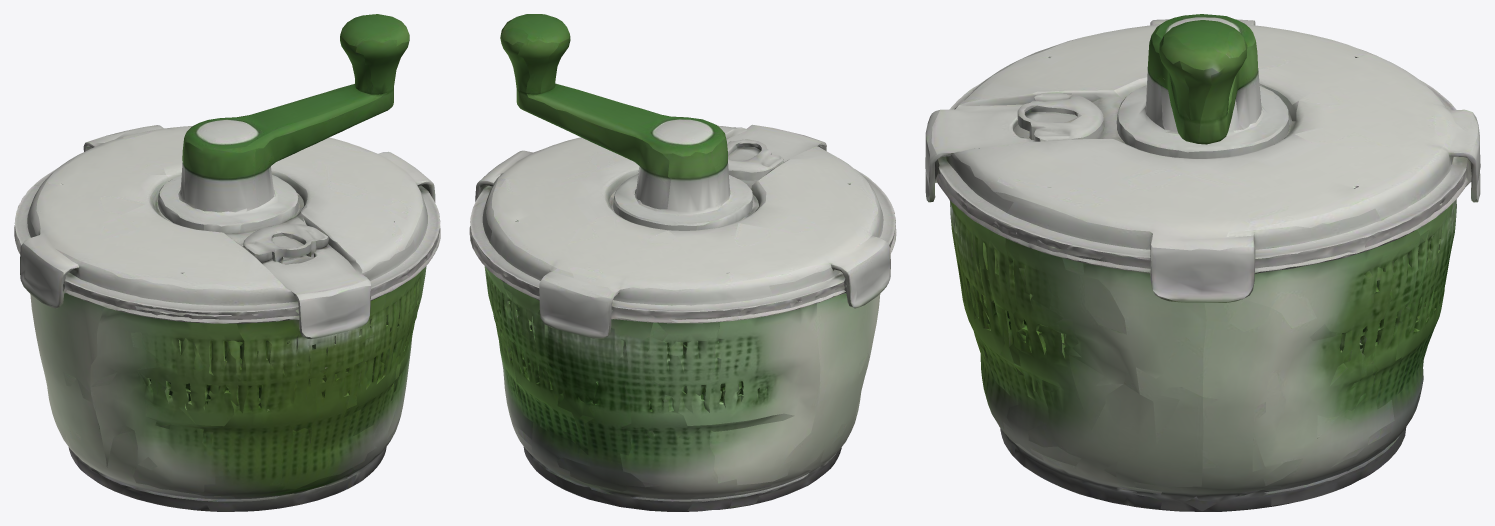
The model's file is parts.glb.
3 views of the same model, side by side, from view 1: azimuth 30°, elevation 25°; view 2: azimuth 150°, elevation 25°; view 3: azimuth 270°, elevation 25° (orthographic). The views are drawn at different scales.
Size of the model in its own units: 0.26 by 0.2551 by 0.26.
Materials: 6 (6 with a texture image).
